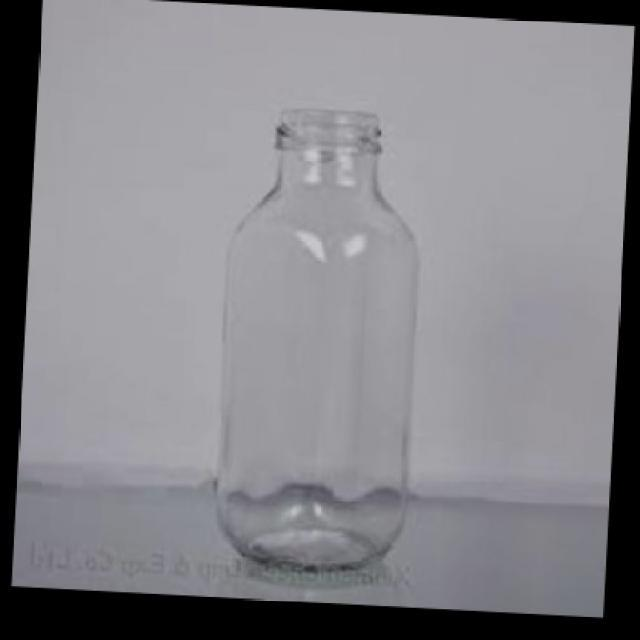Glass: (215, 106, 422, 572)
